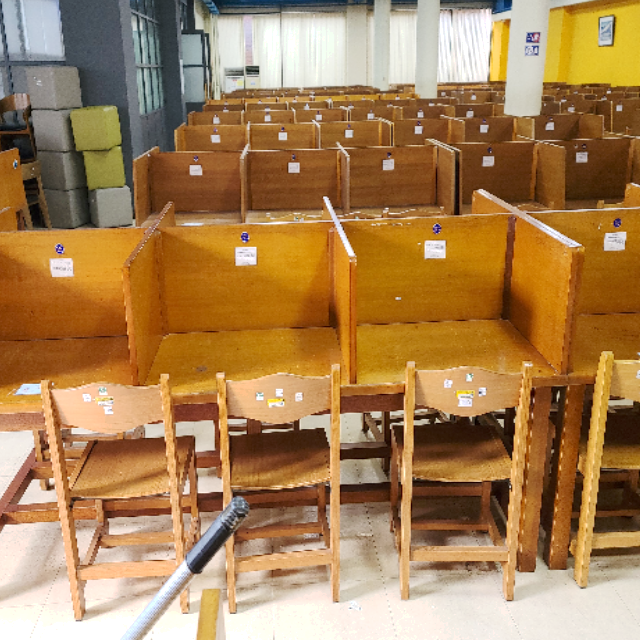empty: (359, 220, 569, 482), (135, 225, 352, 474), (1, 225, 129, 488)
